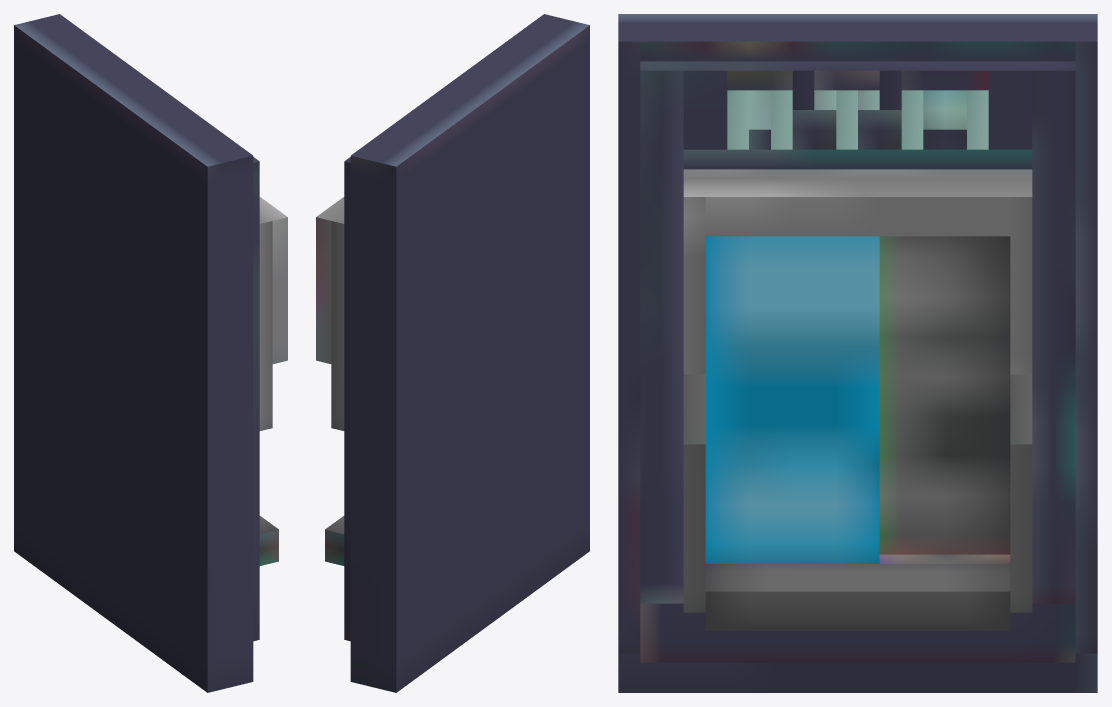
Rendered from Machine_ATM_00.fbx.
3 views of the same model, side by side, from view 1: azimuth 30°, elevation 25°; view 2: azimuth 150°, elevation 25°; view 3: azimuth 270°, elevation 25° (orthographic). The views are drawn at different scales.
Visible parts, largest first — view 1: Machine_ATM_00; view 2: Machine_ATM_00; view 3: Machine_ATM_00.
Part boxes in pixels (left/top/right/bottom): Machine_ATM_00: left=14, top=14, right=287, bottom=692; Machine_ATM_00: left=316, top=14, right=589, bottom=692; Machine_ATM_00: left=618, top=14, right=1097, bottom=692.
Size of the model in its own units: 35 by 165 by 110.
